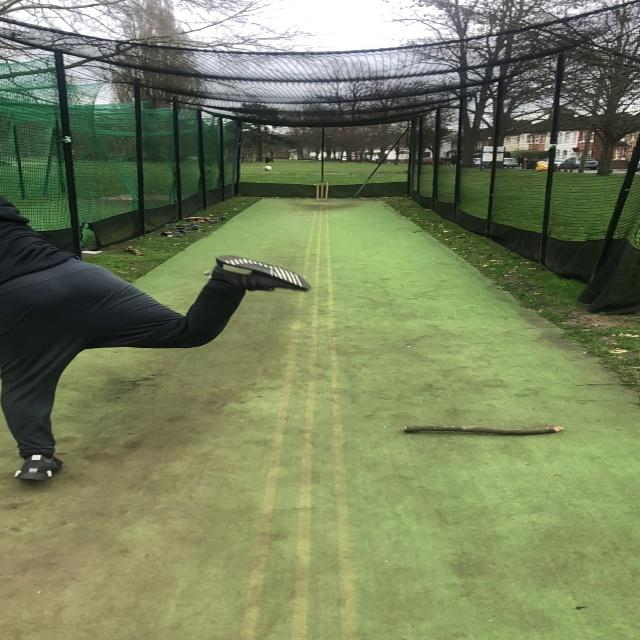ball: (264, 165, 273, 172)
